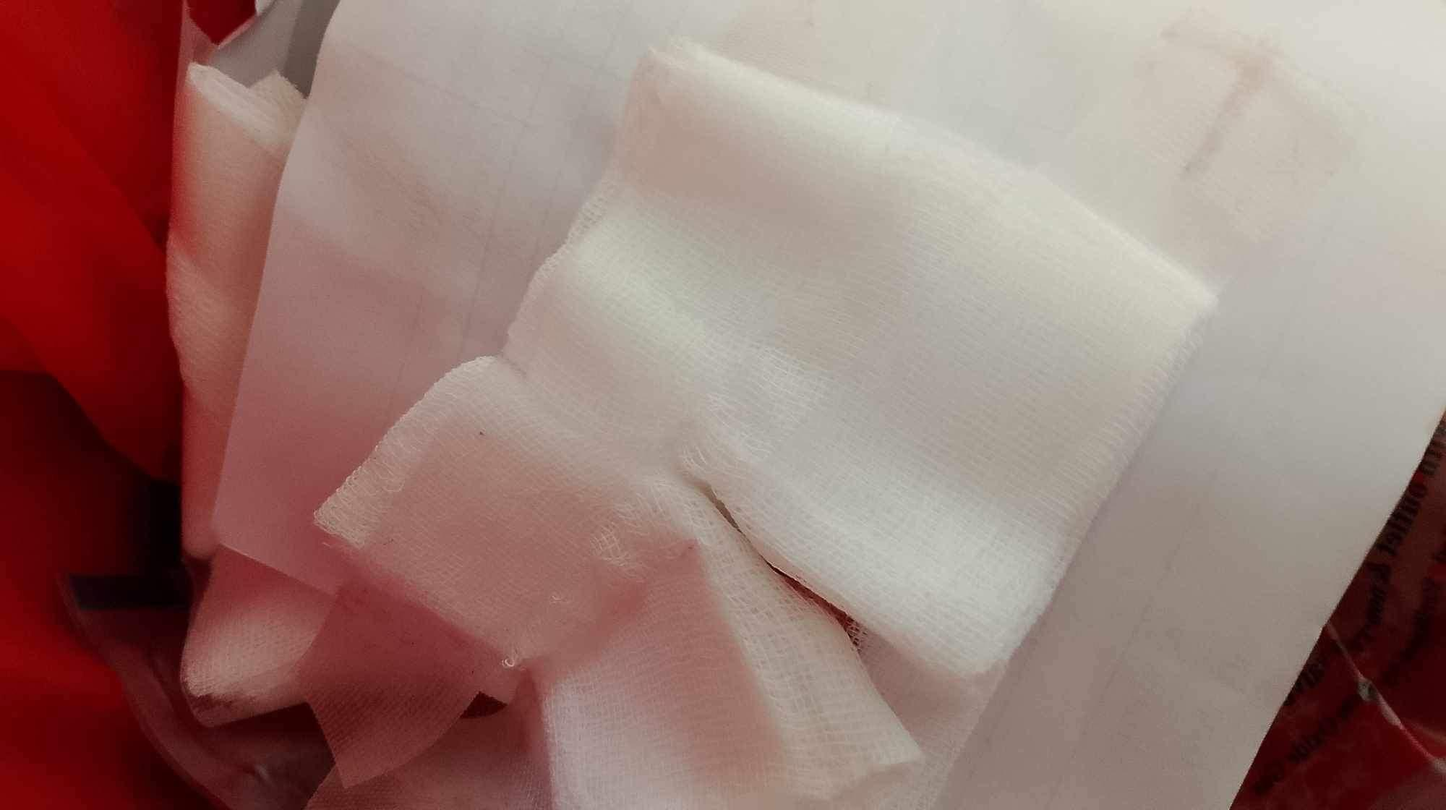General: (62, 6, 1434, 805)
